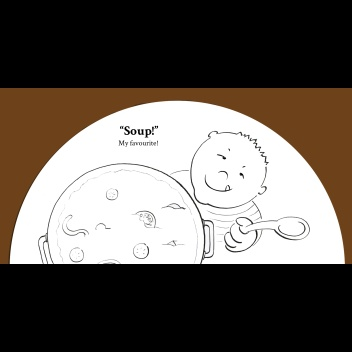latin: (117, 122, 159, 139)
